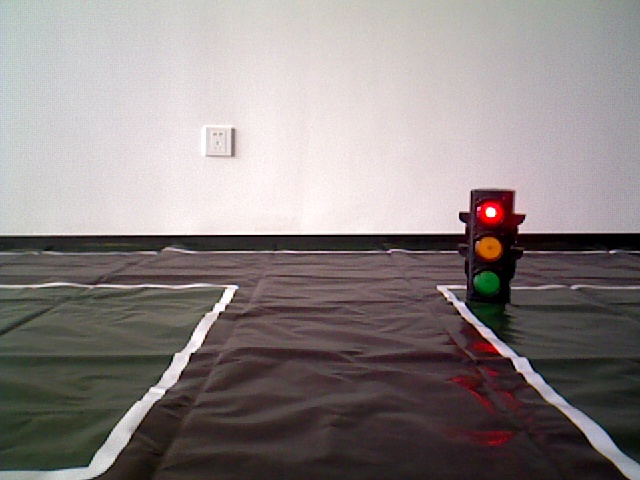red: (466, 193, 512, 307)
